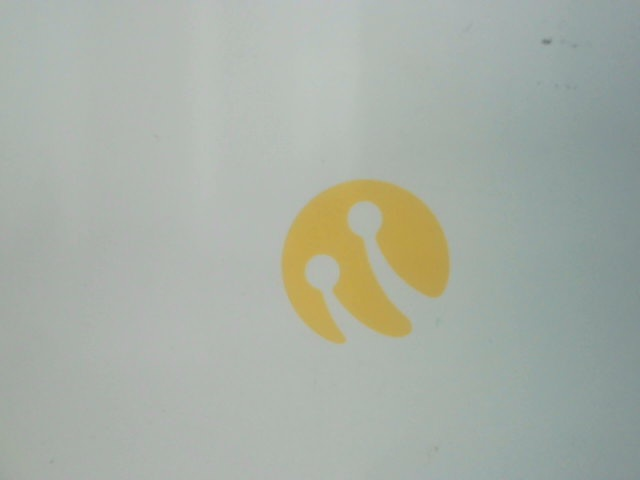AV_H3600Yellow: (268, 174, 468, 358)
